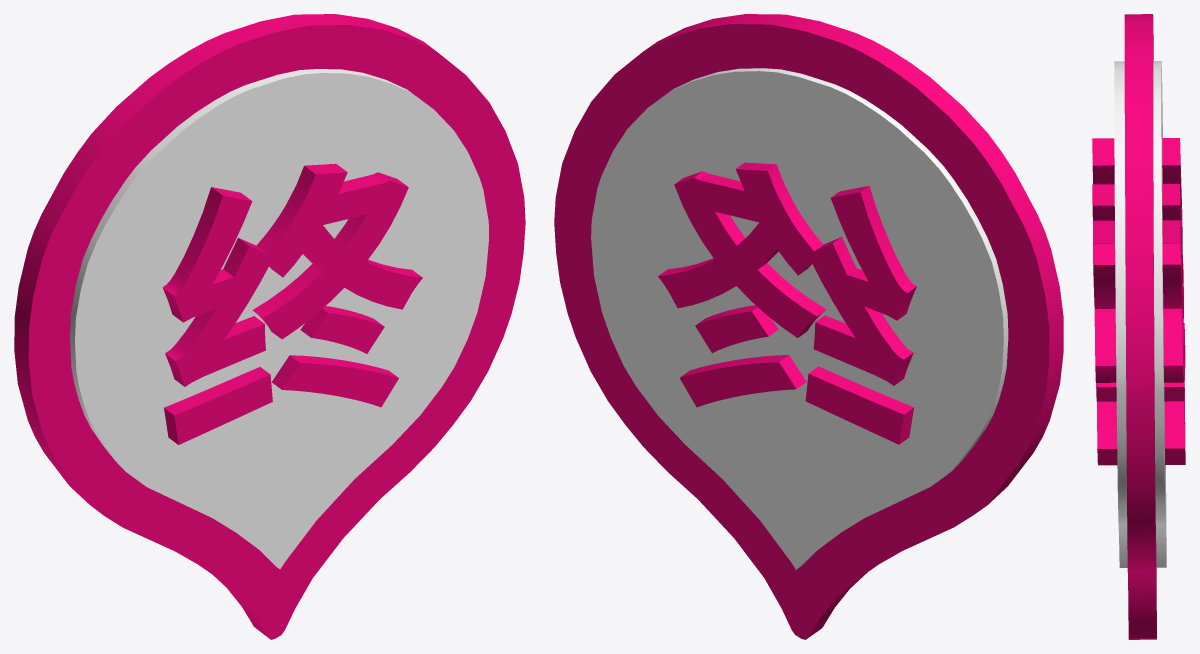
Rendered from endNav.dae.
3 views of the same model, side by side, from view 1: azimuth 30°, elevation 25°; view 2: azimuth 150°, elevation 25°; view 3: azimuth 270°, elevation 25° (orthographic).
Visible parts, largest first — view 1: object_6, object_5, object_1, object_4, object_3, object_2; view 2: object_6, object_5, object_1, object_4, object_3, object_2; view 3: object_5, object_6, object_1, object_3, object_2.
Boxes of the visible parts, x1=… form: object_6: x1=70, y1=69, x2=488, y2=569; object_5: x1=14, y1=14, x2=525, y2=639; object_1: x1=162, y1=163, x2=422, y2=386; object_4: x1=164, y1=367, x2=272, y2=444; object_3: x1=272, y1=355, x2=398, y2=407; object_2: x1=300, y1=306, x2=384, y2=353; object_6: x1=591, y1=68, x2=1008, y2=569; object_5: x1=554, y1=14, x2=1063, y2=639; object_1: x1=658, y1=162, x2=916, y2=385; object_4: x1=805, y1=366, x2=913, y2=444; object_3: x1=679, y1=355, x2=806, y2=407; object_2: x1=695, y1=305, x2=778, y2=353; object_5: x1=1124, y1=14, x2=1156, y2=639; object_6: x1=1114, y1=61, x2=1166, y2=567; object_1: x1=1092, y1=138, x2=1183, y2=382; object_3: x1=1097, y1=362, x2=1185, y2=465; object_2: x1=1096, y1=332, x2=1184, y2=401.
Size of the model in its own units: 0.8993 by 1.05 by 0.1485.
